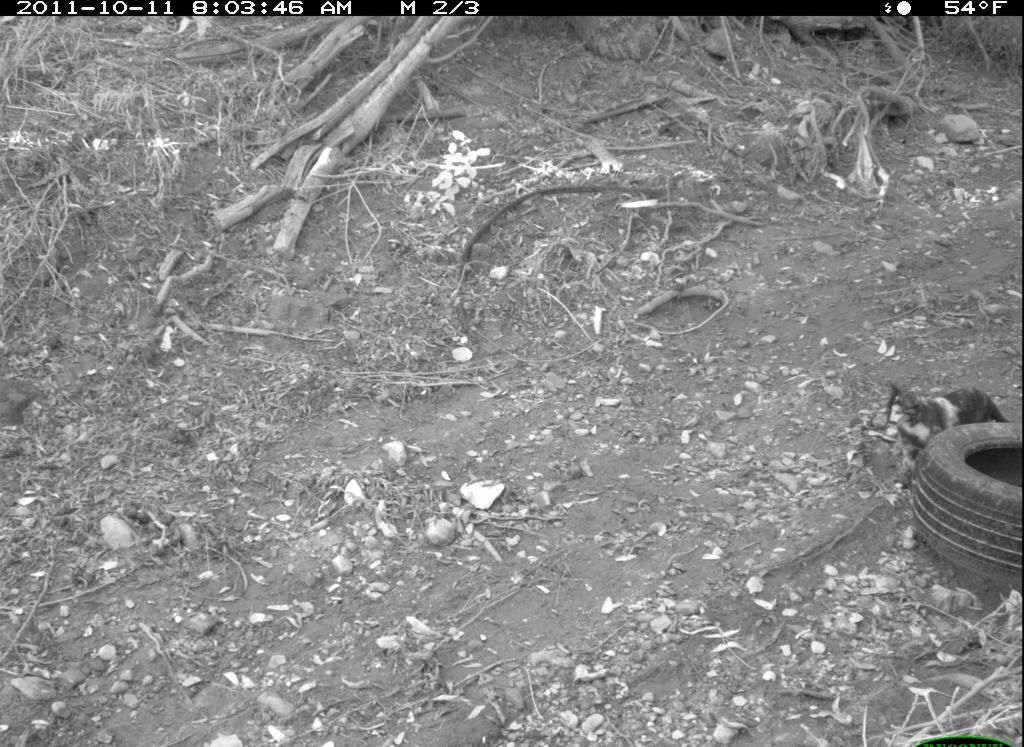cat: (882, 381, 1015, 492)
